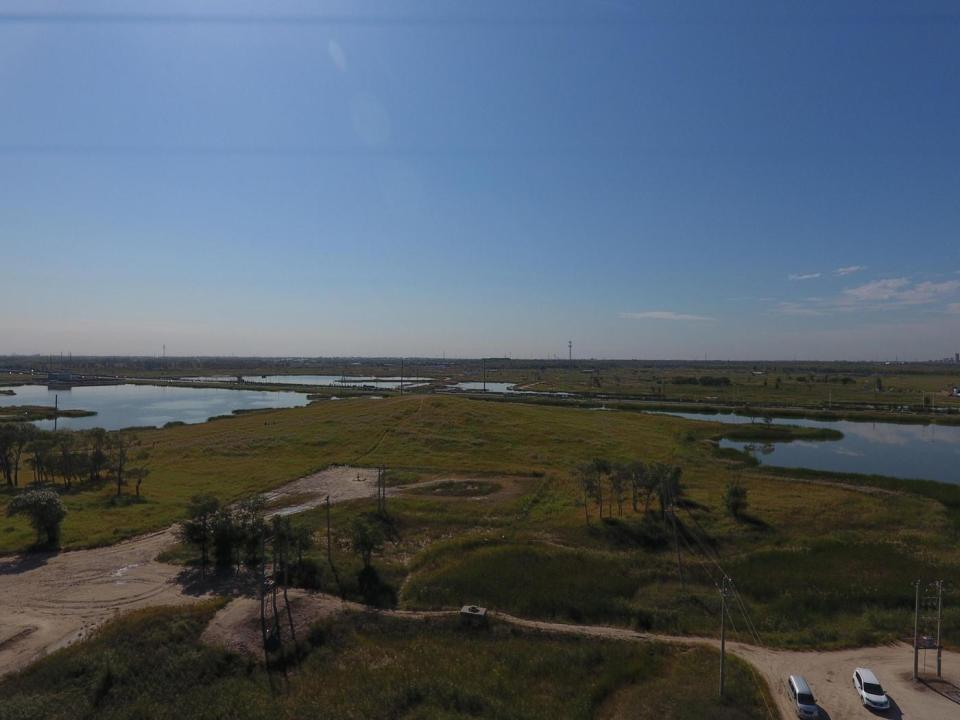car: (852, 666, 890, 710)
van: (787, 675, 818, 719)
